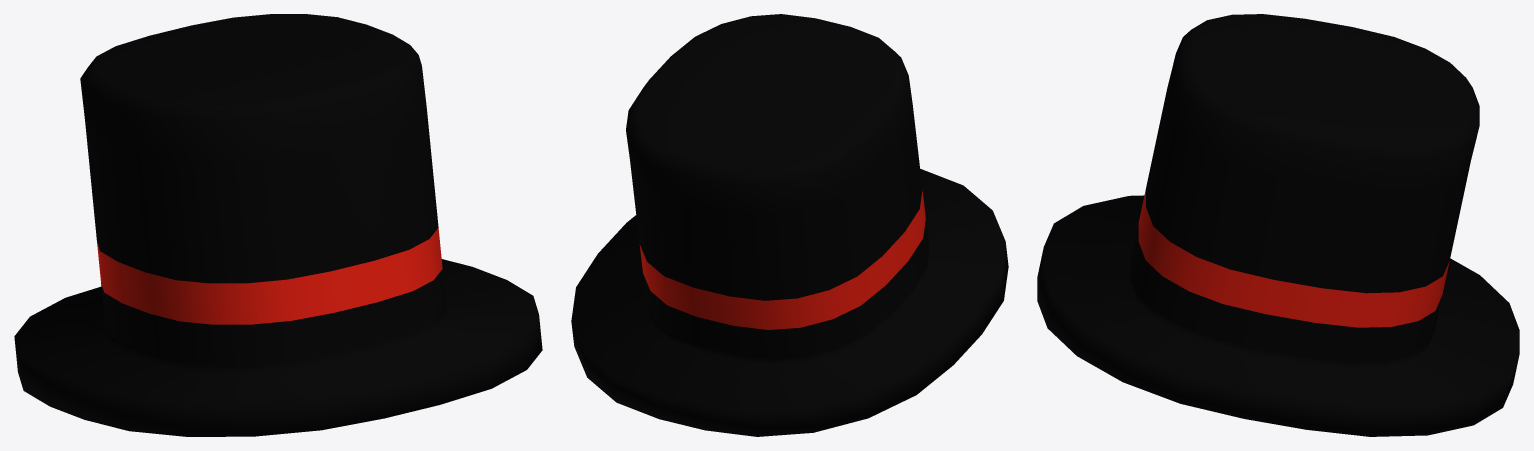
File: magician_hat.fbx
3 renders of one model, left to right at view 1: azimuth 30°, elevation 25°; view 2: azimuth 150°, elevation 25°; view 3: azimuth 270°, elevation 25°, orthographic. The views are drawn at different scales.
Visible parts, largest first — view 1: hair; view 2: hair; view 3: hair.
Boxes of the visible parts, x1,y1,x2,y2 form: hair: [14, 14, 542, 436]; hair: [571, 14, 1008, 436]; hair: [1037, 14, 1519, 436].
Bounding box in the file's own units: 54.74 × 43.32 × 59.5.
